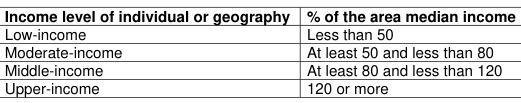table: (3, 4, 514, 97)
table column: (3, 4, 297, 97), (297, 4, 514, 97)
table column header: (3, 4, 514, 23)
table row: (3, 77, 514, 97), (3, 4, 514, 23), (3, 23, 514, 41), (3, 41, 514, 59), (3, 59, 514, 77)
